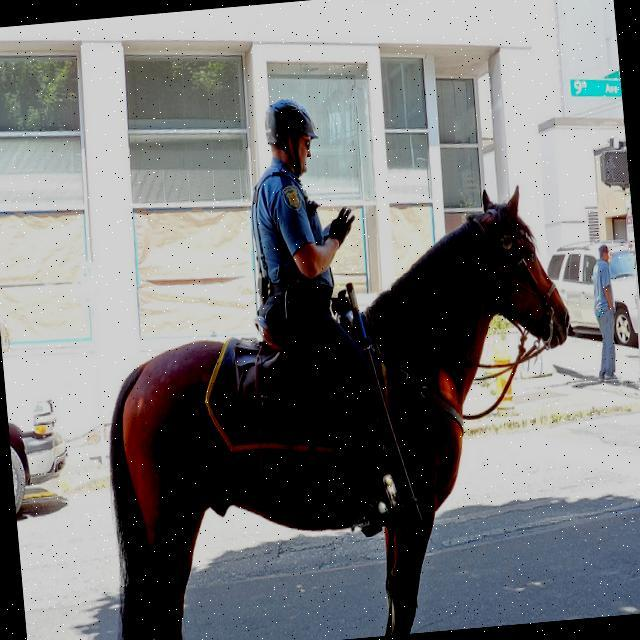fire_hydrant: (490, 337, 514, 413)
